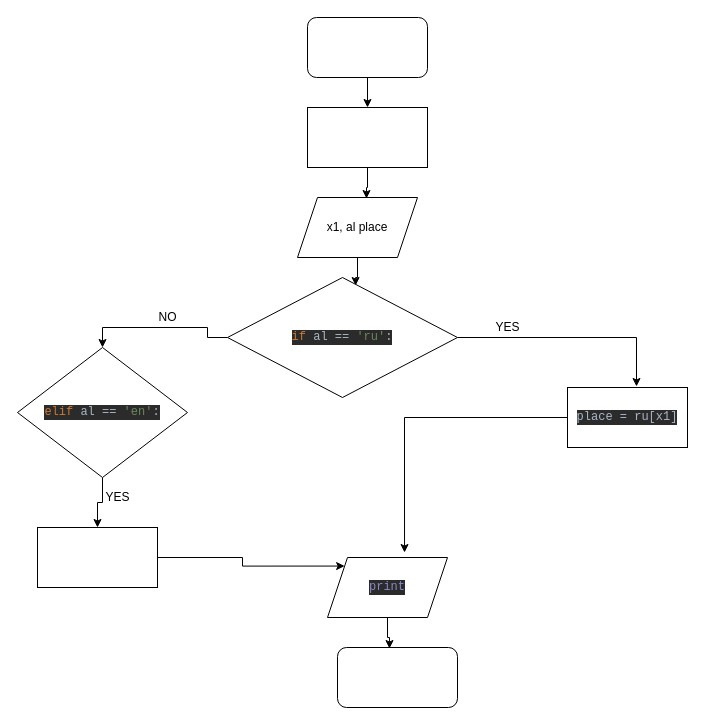
This 705x725 diagram has some shape labels left out. The box of each missing label's shape, as (x1, y1, x2, y2) in pixels:
en, ru: (306, 106, 428, 168)
place = en[x1]: (36, 526, 158, 588)
